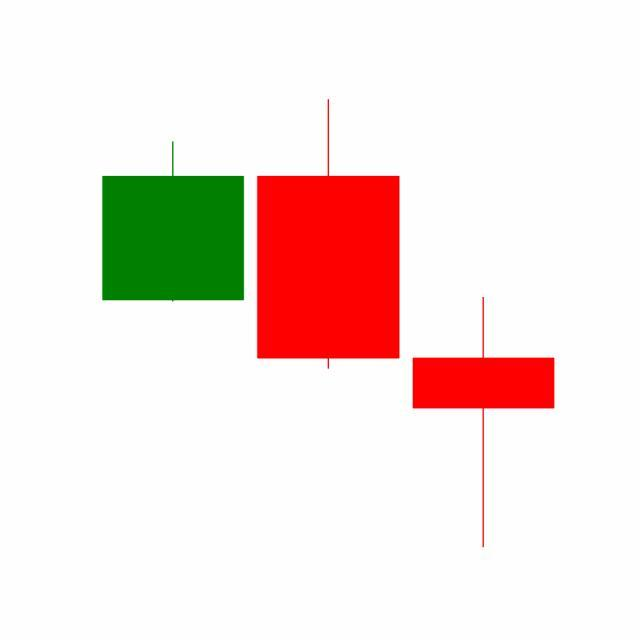Spinning Top: (406, 296, 562, 552)
